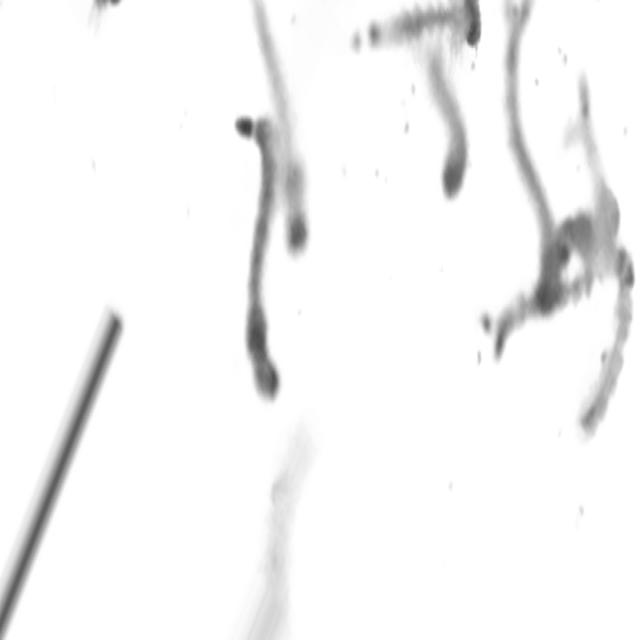larvas: (441, 228, 640, 490), (493, 0, 580, 347), (245, 0, 334, 305), (237, 24, 291, 415), (541, 68, 632, 262), (337, 0, 499, 84), (408, 57, 476, 223)
